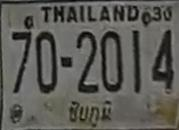0: (35, 31, 57, 94), (100, 30, 122, 91)
1: (132, 30, 143, 92)
2: (76, 32, 100, 93)
4: (151, 28, 173, 90)
7: (9, 31, 31, 93)
CPM: (65, 98, 114, 128)
